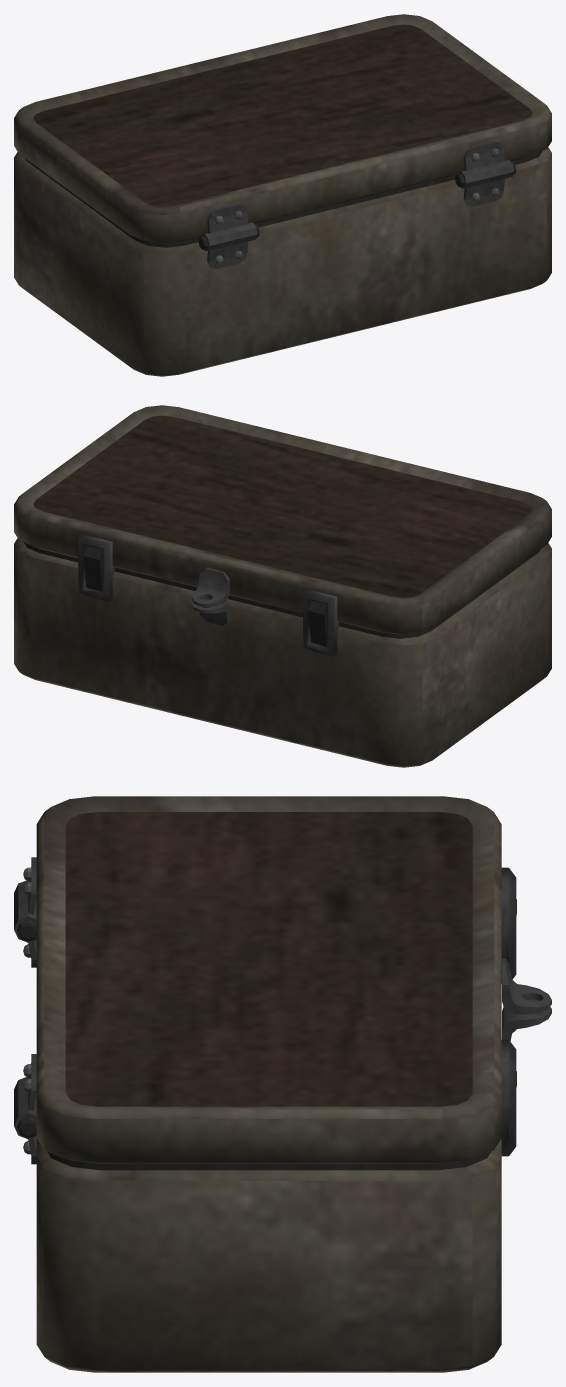
The model's file is metal_crate_2.obj.
3 renders of one model, top to bottom at view 1: azimuth 30°, elevation 25°; view 2: azimuth 150°, elevation 25°; view 3: azimuth 270°, elevation 25°, orthographic. The views are drawn at different scales.
Visible parts, largest first — view 1: metal_crate_2; view 2: metal_crate_2; view 3: metal_crate_2.
Part boxes in pixels (x1,y1,x2,y2): metal_crate_2: (14,14,551,376); metal_crate_2: (14,405,551,767); metal_crate_2: (14,796,551,1372).
Bounding box in the file's own units: 0.52 × 0.2 × 0.3702.
